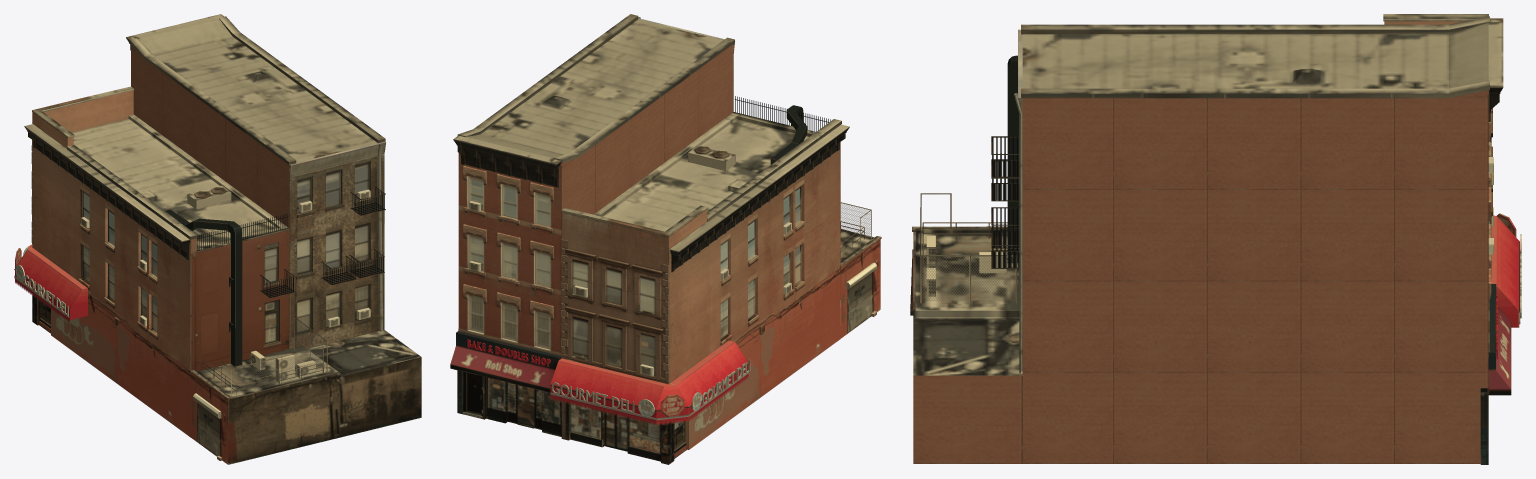
File: btwn.glb
3 views of the same model, side by side, from view 1: azimuth 30°, elevation 25°; view 2: azimuth 150°, elevation 25°; view 3: azimuth 270°, elevation 25° (orthographic). The views are drawn at different scales.
Parts seen in each view (by area): view 1: Object_4; view 2: Object_4; view 3: Object_4.
Part boxes in pixels (box(x1,y1,x2,y2)): Object_4: box(14, 14, 421, 464); Object_4: box(450, 14, 881, 464); Object_4: box(910, 14, 1521, 464).
Bounding box in the file's own units: 12.87 × 14.77 × 21.56.
Materials: 1 (1 with a texture image).
